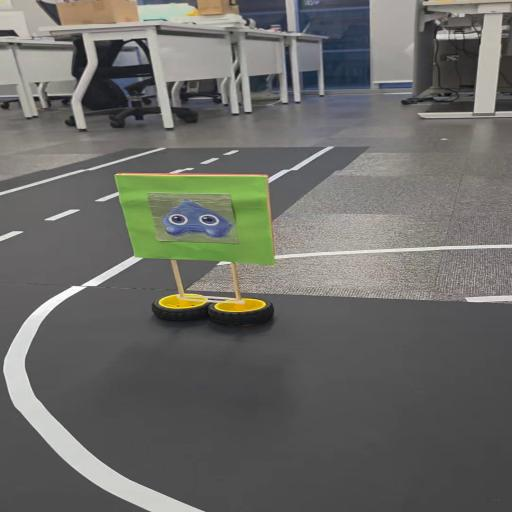Sign_B: (109, 163, 290, 333)
